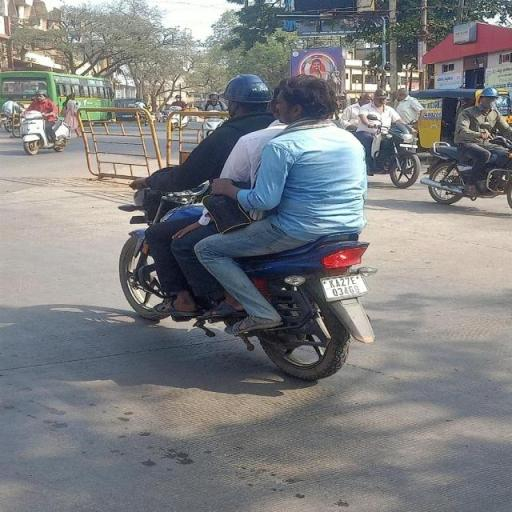tripple riding: (117, 76, 377, 242), (194, 120, 207, 134)
